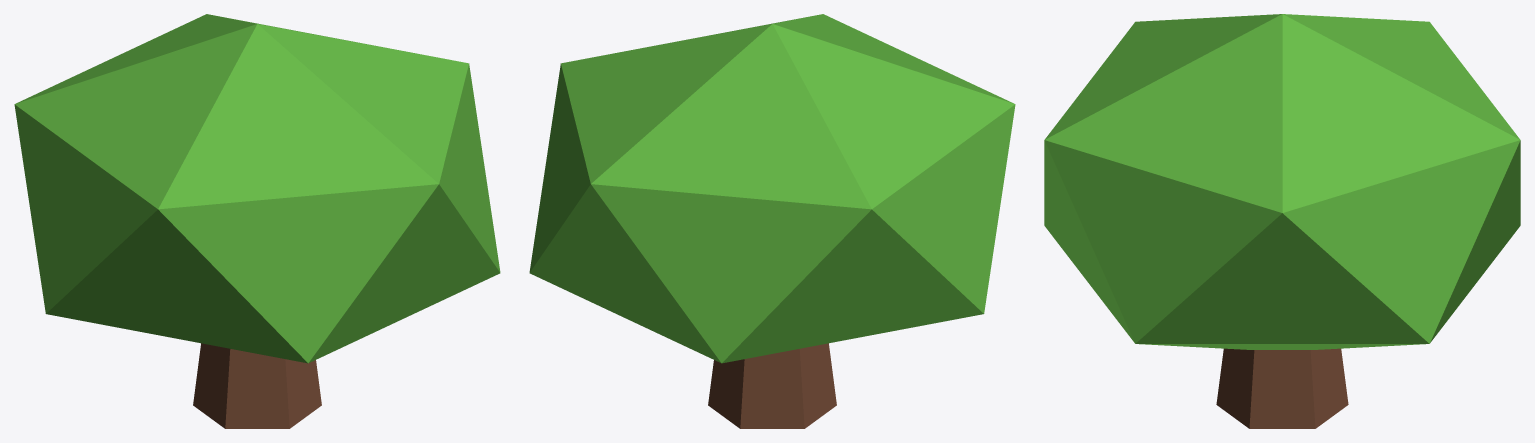
File: Bush_Green_vc.fbx
3 views of the same model, side by side, from view 1: azimuth 30°, elevation 25°; view 2: azimuth 150°, elevation 25°; view 3: azimuth 270°, elevation 25° (orthographic). The views are drawn at different scales.
Visible parts, largest first — view 1: Bush_Green_vc; view 2: Bush_Green_vc; view 3: Bush_Green_vc.
Boxes of the visible parts, x1,y1,x2,y2 form: Bush_Green_vc: (14, 14, 500, 428); Bush_Green_vc: (529, 14, 1015, 428); Bush_Green_vc: (1044, 14, 1520, 428).
Bounding box in the file's own units: 246 × 212 × 234.
